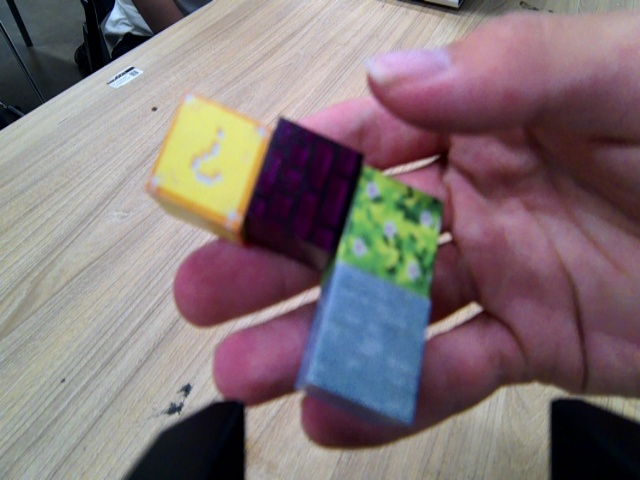brick: (242, 111, 355, 263)
grass: (339, 162, 448, 291)
lucky: (139, 89, 267, 236)
stone: (300, 270, 430, 424)
